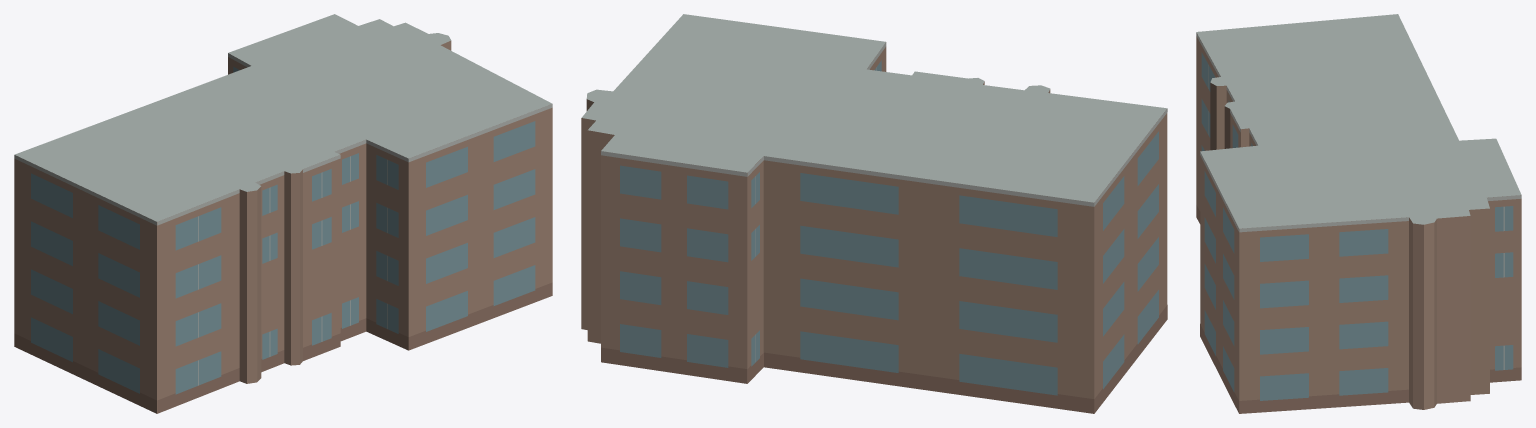
File: survey-upis-32973624.glb
3 renders of one model, left to right at view 1: azimuth 30°, elevation 25°; view 2: azimuth 150°, elevation 25°; view 3: azimuth 270°, elevation 25°, orthographic. The views are drawn at different scales.
Parts seen in each view (by area): view 1: survey-upis-32973624.tmp; view 2: survey-upis-32973624.tmp; view 3: survey-upis-32973624.tmp.
Boxes of the visible parts, left/top/right/bottom form: survey-upis-32973624.tmp: left=14, top=14, right=552, bottom=413; survey-upis-32973624.tmp: left=581, top=14, right=1167, bottom=413; survey-upis-32973624.tmp: left=1196, top=14, right=1521, bottom=413.
Bounding box in the file's own units: 30.32 × 12.2 × 19.43.
